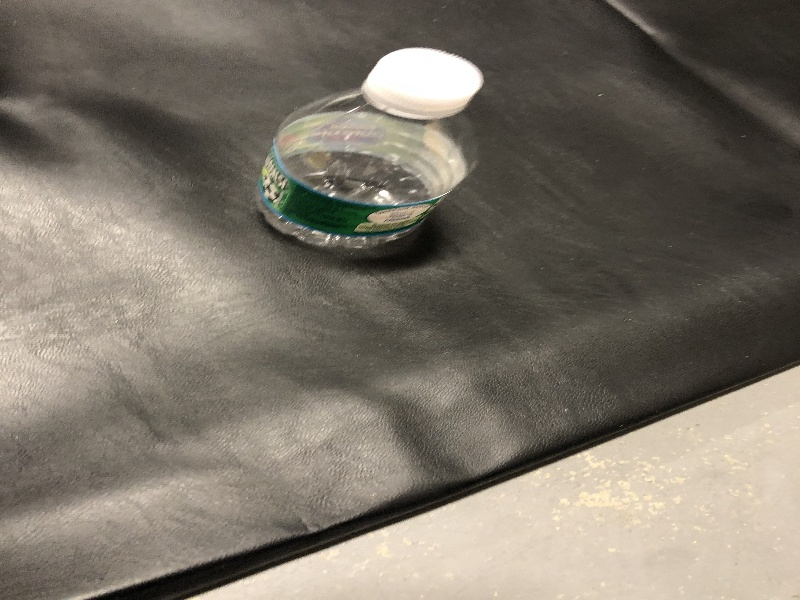plastic: (250, 38, 497, 266)
